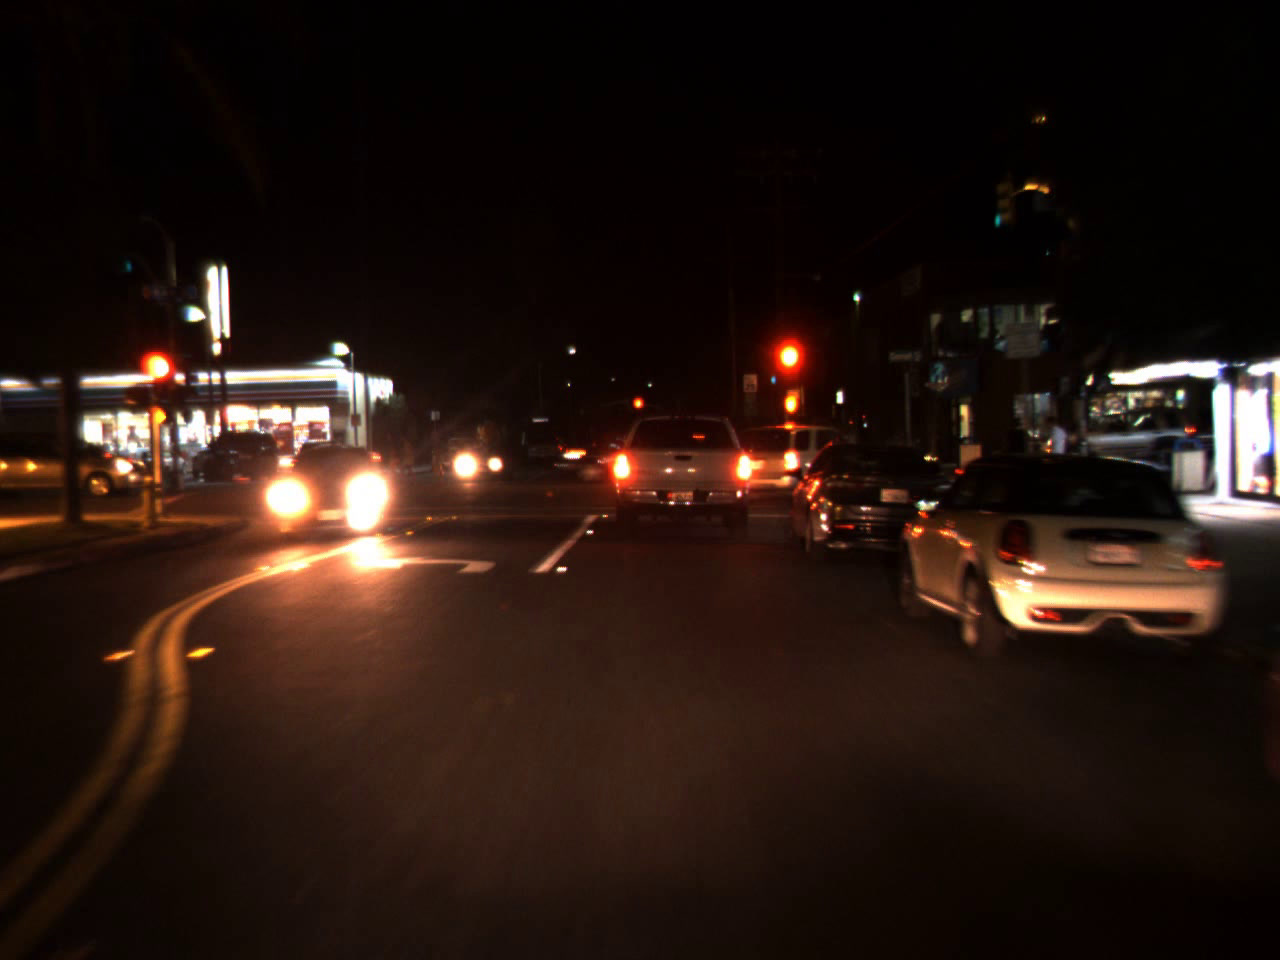stop: (140, 345, 183, 423), (771, 341, 805, 397), (631, 395, 644, 422)
